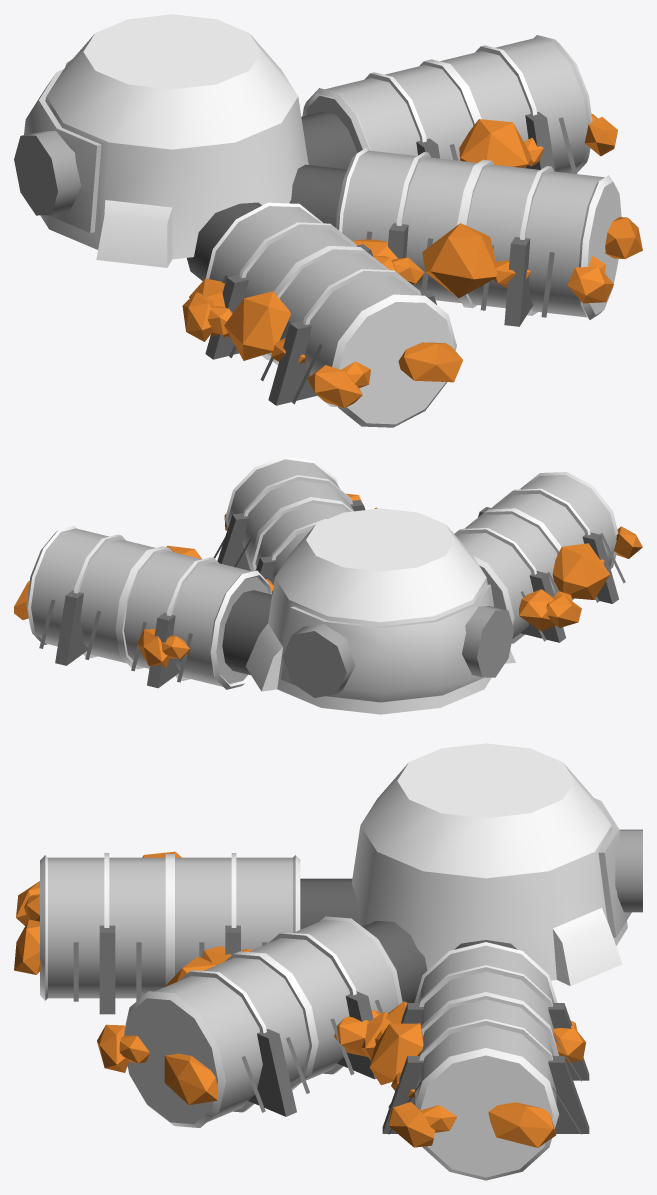
File: Laboratory.glb
3 renders of one model, top to bottom at view 1: azimuth 30°, elevation 25°; view 2: azimuth 150°, elevation 25°; view 3: azimuth 270°, elevation 25°, orthographic. The views are drawn at different scales.
Visible parts, largest first — view 1: Cylinder.036, Cylinder.035, Tunnel.012; view 2: Cylinder.036, Cylinder.035, Tunnel.012; view 3: Cylinder.036, Cylinder.035, Tunnel.012.
Boxes of the visible parts, left/top/right/bottom form: Cylinder.036: left=182, top=35, right=642, bottom=427; Cylinder.035: left=24, top=14, right=308, bottom=267; Tunnel.012: left=14, top=59, right=81, bottom=215; Cylinder.036: left=14, top=456, right=642, bottom=689; Cylinder.035: left=245, top=508, right=515, bottom=714; Tunnel.012: left=282, top=606, right=513, bottom=697; Cylinder.036: left=14, top=851, right=589, bottom=1180; Cylinder.035: left=351, top=743, right=631, bottom=985; Tunnel.012: left=615, top=829, right=642, bottom=912.
Size of the model in its own units: 4.01 by 1.51 by 4.01.
Materials: 2 (2 with a texture image).
